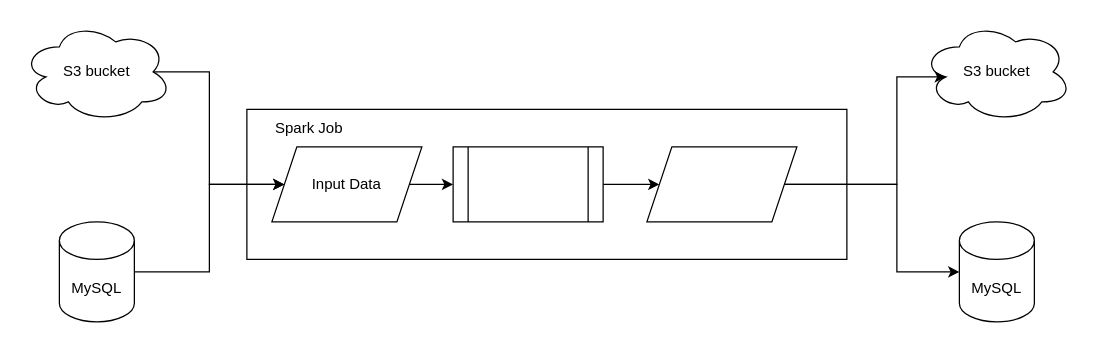
This 1094x344 diagram has some shape labels left out. Here are the shapes that lost their labels. From the top down, the centre of each, then its label:
At (x=527, y=184): "grouping operations".
At (x=721, y=184): "output".
